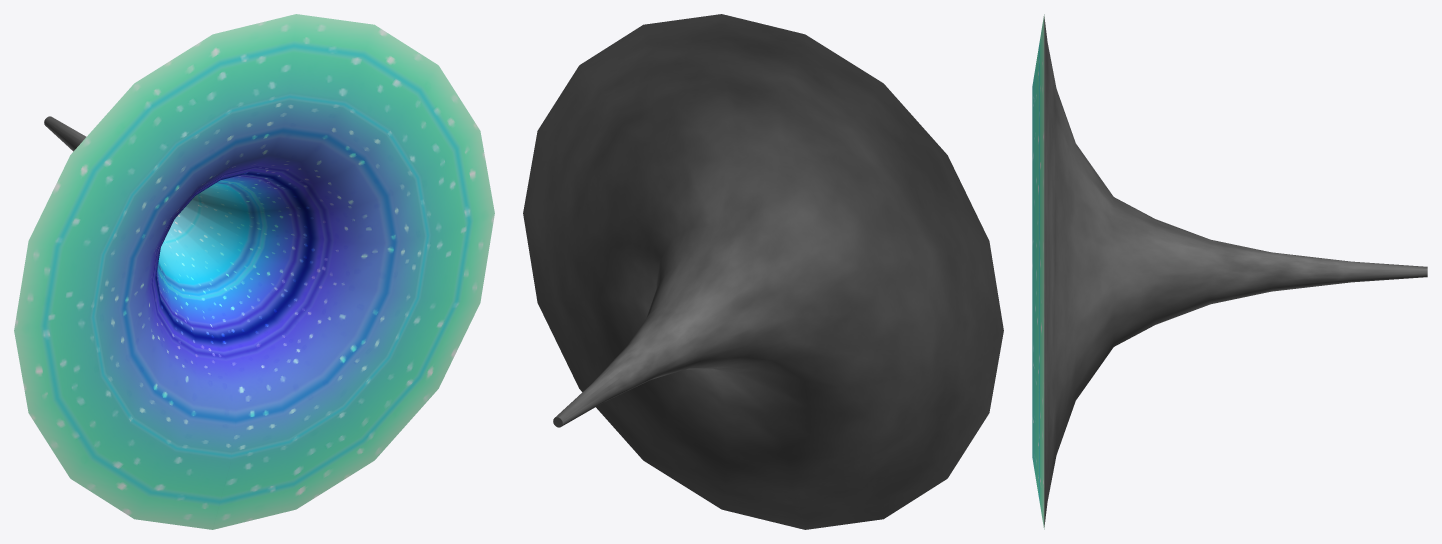
The model's file is WormholeEntrence.fbx.
The picture shows the model from 3 angles, left to right: view 1: azimuth 30°, elevation 25°; view 2: azimuth 150°, elevation 25°; view 3: azimuth 270°, elevation 25°; orthographic projection. The views are drawn at different scales.
Parts seen in each view (by area): view 1: WormholeEntrence, WormholeCover; view 2: WormholeCover; view 3: WormholeCover, WormholeEntrence.
Boxes of the visible parts, <box> form: WormholeEntrence: <box>14,14,494,529</box>; WormholeCover: <box>44,116,86,151</box>; WormholeCover: <box>523,14,1003,529</box>; WormholeCover: <box>1044,17,1427,526</box>; WormholeEntrence: <box>1032,14,1044,529</box>.
Size of the model in its own units: 103 by 101 by 78.37.
Materials: 1 (1 with a texture image).
